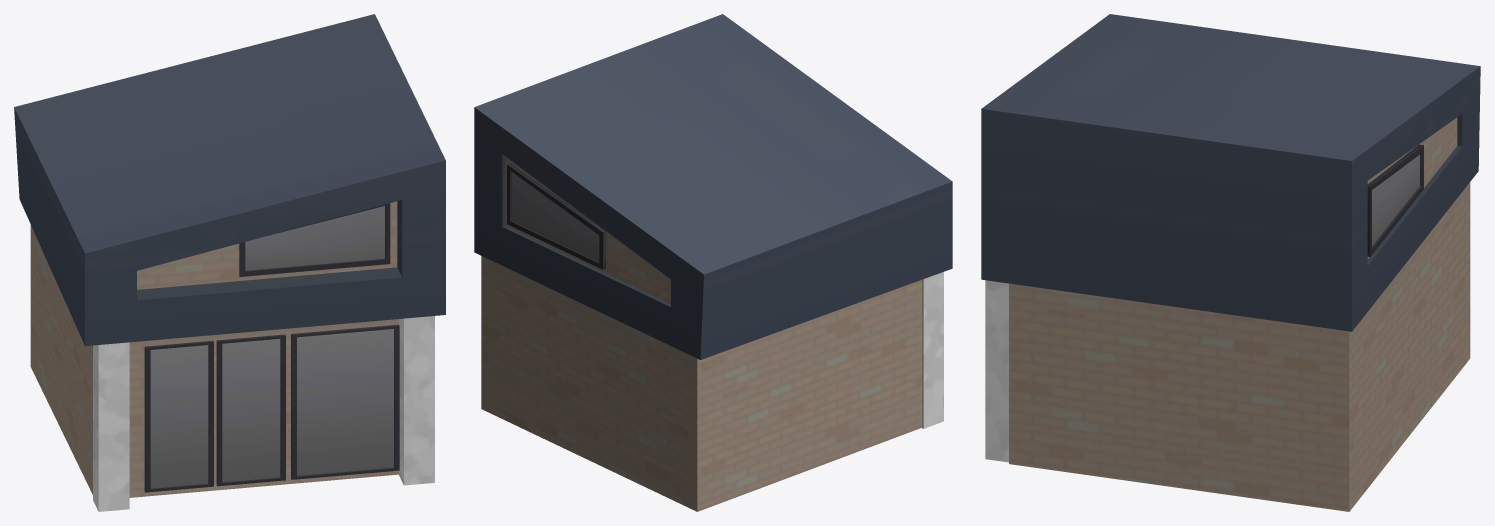
Rendered from House_1.fbx.
3 views of the same model, side by side, from view 1: azimuth 30°, elevation 25°; view 2: azimuth 150°, elevation 25°; view 3: azimuth 270°, elevation 25° (orthographic). The views are drawn at different scales.
Visible parts, largest first — view 1: House_1; view 2: House_1; view 3: House_1.
Boxes of the visible parts, x1,y1,x2,y2 form: House_1: (14, 14, 445, 511); House_1: (474, 14, 952, 511); House_1: (981, 14, 1480, 511).
Bounding box in the file's own units: 433 × 333 × 425.
